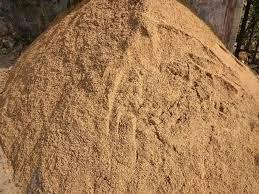sand: (154, 31, 183, 54), (127, 100, 152, 122), (94, 158, 120, 179), (221, 168, 243, 188), (190, 132, 210, 152)
